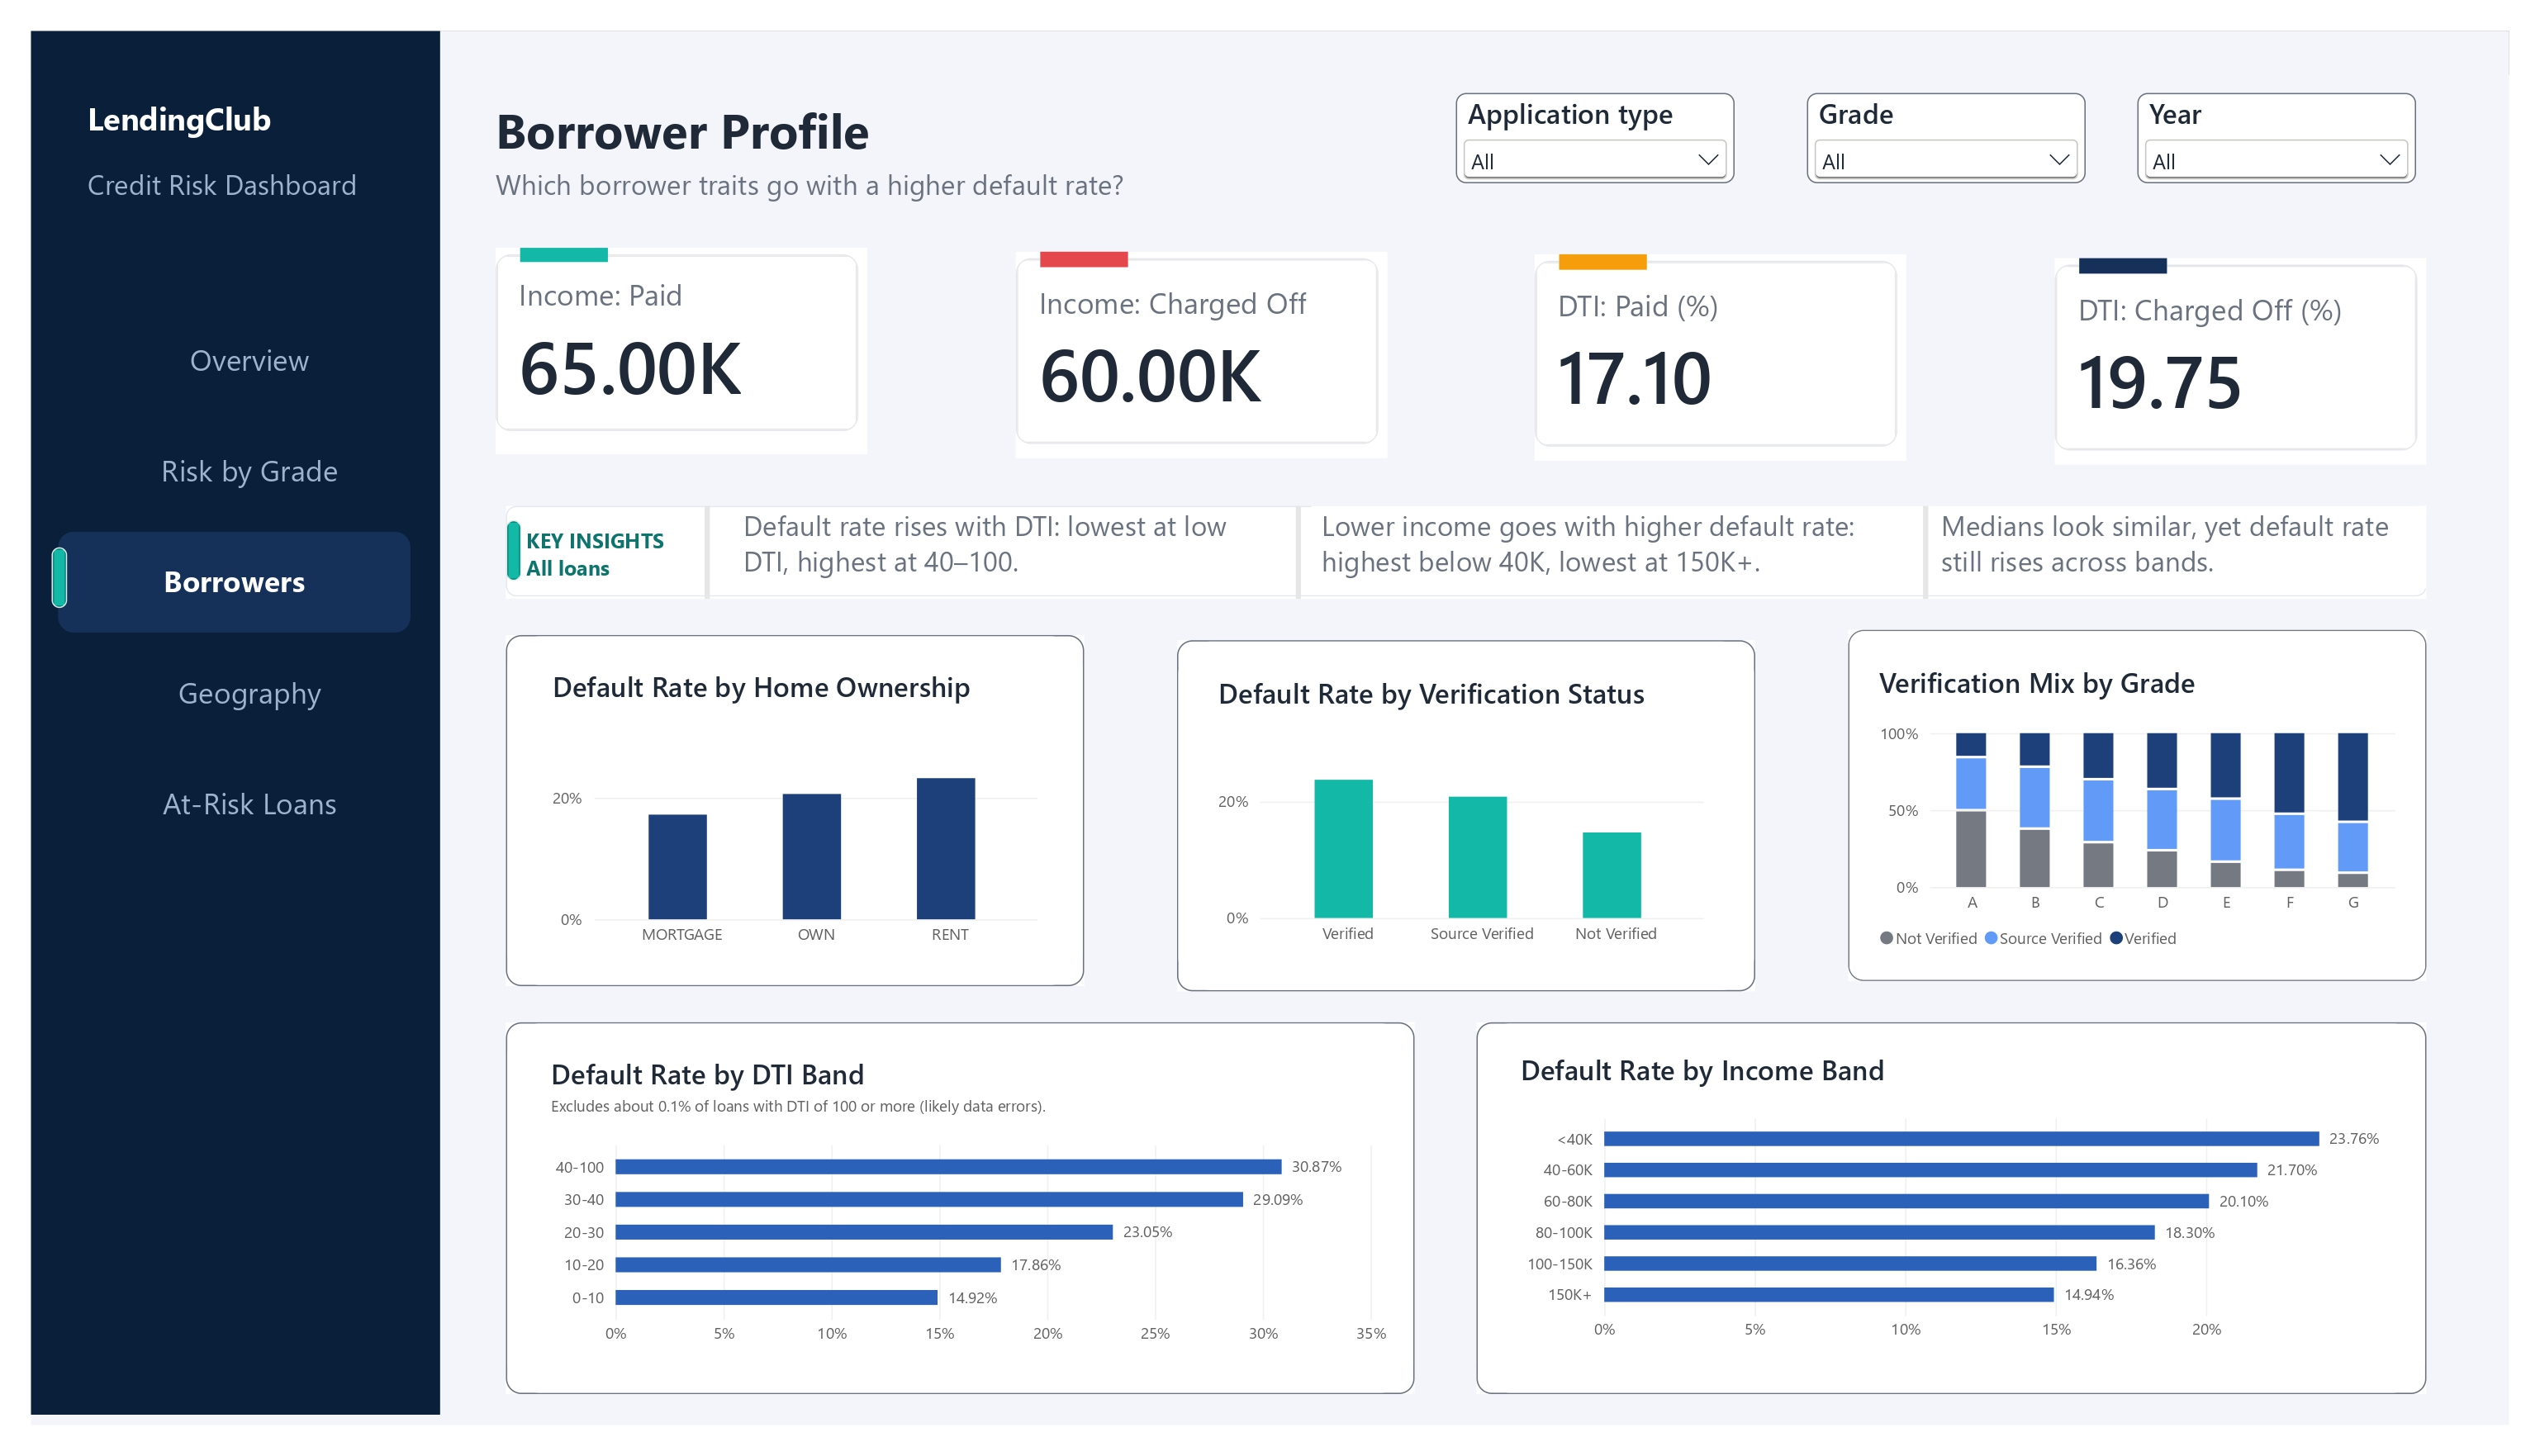

The dashboard page shown, as its layout file describes it:
{"tool":"powerbi","page":{"name":"Borrowers","canvas":[1920,1080],"ordinal":2},"visuals":[{"type":"shape","box":[0,-8,317,1080],"z":0},{"type":"cardVisual","fields":{"Data":["Median(loans_dashboard.annual_inc)"]},"box":[360,172.8,281,137.1],"z":0,"group":"g1"},{"type":"cardVisual","fields":{"Data":["Median(loans_dashboard.annual_inc)"]},"box":[762.7,175.7,281,144],"z":0,"group":"g6"},{"type":"cardVisual","fields":{"Data":["Median(loans_dashboard.dti)"]},"box":[1165.3,178.3,281,144],"z":0,"group":"g2"},{"type":"cardVisual","fields":{"Data":["Median(loans_dashboard.dti)"]},"box":[1568,181,281,144],"z":0,"group":"g3"},{"type":"shape","box":[1408,464,448,272],"z":0,"group":"g10"},{"type":"textbox","box":[44,51,245,57],"z":1000},{"type":"shape","box":[379,168,68,11.4],"z":1000,"group":"g1"},{"type":"shape","box":[781.7,170.7,68,12],"z":1000,"group":"g6"},{"type":"shape","box":[1184.3,173.3,68,12],"z":1000,"group":"g2"},{"type":"shape","box":[1587,176,68,12],"z":1000,"group":"g3"},{"type":"textbox","box":[44,104,245,44],"z":2000},{"type":"pageNavigator","box":[21,216,273,426],"z":3000},{"type":"shape","box":[16,400,12,47],"z":4000},{"type":"textbox","box":[360,51,552,72],"z":5000},{"type":"textbox","box":[360,104,528,48],"z":6000},{"type":"slicer","fields":{"Values":["loans_dashboard.issue_d.Variation.Date Hierarchy.Year"]},"box":[1632,48,216,70],"z":7000},{"type":"group","id":"g1","title":"Group 1","box":[360,168,288,160],"z":8000},{"type":"group","id":"g2","title":"Group 1","box":[1165.3,173.3,288,160],"z":9000},{"type":"group","id":"g3","title":"Group 1","box":[1568,176,288,160],"z":11000},{"type":"slicer","fields":{"Values":["loans_dashboard.grade"]},"box":[1376,48,216,70],"z":12000},{"type":"shape","box":[368,368,1488,70],"z":12000,"group":"g9"},{"type":"slicer","fields":{"Values":["loans_dashboard.application_type"]},"box":[1104,48,216,70],"z":13000},{"type":"shape","box":[368,379,12,47],"z":13000,"group":"g9"},{"type":"group","id":"g4","title":"Group 3","box":[888,472,448,272],"z":14000},{"type":"shape","box":[368,468,448,272],"z":15000,"group":"g12"},{"type":"shape","box":[888,472,448,272],"z":15000,"group":"g4"},{"type":"group","id":"g5","title":"Group 5","box":[368,768,704,288],"z":15000},{"type":"shape","box":[368,768,704,288],"z":15000,"group":"g13"},{"type":"shape","box":[1120,768,736,288],"z":15000,"group":"g8"},{"type":"group","id":"g6","title":"Group 1","box":[762.7,170.7,288,160],"z":16000},{"type":"group","id":"g7","title":"Group 2","box":[368,468,448,272],"z":17000},{"type":"clusteredColumnChart","title":"Default Rate by Home Ownership","fields":{"Category":["loans_dashboard.home_ownership"],"Y":["loans_dashboard.Charge-off Rate per 100 (closed loans)"]},"box":[388,479.3,408,249.3],"z":17000,"group":"g12"},{"type":"columnChart","title":"Default Rate by Verification Status","fields":{"Category":["loans_dashboard.verification_status"],"Y":["loans_dashboard.Charge-off Rate per 100 (closed loans)"]},"box":[904.1,488,408,240],"z":17007,"group":"g4"},{"type":"textbox","box":[384,384,128,48],"z":18000,"group":"g9"},{"type":"group","id":"g8","title":"Group 8","box":[1120,768,736,288],"z":18000},{"type":"group","id":"g9","title":"Group 9","box":[368,368,1488,72],"z":19000},{"type":"textbox","box":[1472,368,384,64],"z":19000,"group":"g9"},{"type":"hundredPercentStackedColumnChart","title":"Verification Mix by Grade","fields":{"Category":["loans_dashboard.grade"],"Series":["loans_dashboard.verification_status"],"Y":["CountNonNull(loans_dashboard.verification_status)"]},"box":[1416,476,432,256],"z":19000,"group":"g10"},{"type":"textbox","box":[992,368,480,64],"z":20000,"group":"g9"},{"type":"group","id":"g10","title":"Group 4","box":[1408,464,448,272],"z":20000},{"type":"clusteredBarChart","title":"Default Rate by Income Band","fields":{"Category":["loans_dashboard.Income Band"],"Y":["loans_dashboard.Charge-off Rate per 100 (closed loans)"]},"box":[1138,776.5,709.7,259.2],"z":20002,"group":"g11"},{"type":"clusteredBarChart","title":"Default Rate by DTI Band","fields":{"Category":["loans_dashboard.DTI Band"],"Y":["loans_dashboard.Charge-off Rate per 100 (closed loans)"]},"box":[386.9,778.8,678.9,259.2],"z":20002,"group":"g13"},{"type":"textbox","box":[544,368,416,64],"z":21000,"group":"g9"},{"type":"shape","box":[970,368,24,72],"z":22000,"group":"g9"},{"type":"shape","box":[512,368,24,72],"z":23000,"group":"g9"},{"type":"shape","box":[1456,368,24,72],"z":24000,"group":"g9"},{"type":"group","id":"g11","title":"Group 5","box":[1138,776.5,700.1,271.1],"z":26000,"group":"g8"},{"type":"group","id":"g12","title":"Group 6","box":[368,468,448,272],"z":28001,"group":"g7"},{"type":"group","id":"g13","title":"Group 7","box":[368,768,704,288],"z":28001,"group":"g5"}]}

Visuals, with their boxes on the page's 1920x1080 design canvas (x1, y1, x2, y2). These are canvas units, not pixel positions in the 2540x1456 screenshot, which may show the page scaled, cropped or inside an application window:
shape: <bbox>0, -8, 317, 1072</bbox>
cardVisual - Median(loans_dashboard.annual_inc): <bbox>360, 173, 641, 310</bbox>
cardVisual - Median(loans_dashboard.annual_inc): <bbox>763, 176, 1044, 320</bbox>
cardVisual - Median(loans_dashboard.dti): <bbox>1165, 178, 1446, 322</bbox>
cardVisual - Median(loans_dashboard.dti): <bbox>1568, 181, 1849, 325</bbox>
shape: <bbox>1408, 464, 1856, 736</bbox>
textbox: <bbox>44, 51, 289, 108</bbox>
shape: <bbox>379, 168, 447, 179</bbox>
shape: <bbox>782, 171, 850, 183</bbox>
shape: <bbox>1184, 173, 1252, 185</bbox>
shape: <bbox>1587, 176, 1655, 188</bbox>
textbox: <bbox>44, 104, 289, 148</bbox>
pageNavigator: <bbox>21, 216, 294, 642</bbox>
shape: <bbox>16, 400, 28, 447</bbox>
textbox: <bbox>360, 51, 912, 123</bbox>
textbox: <bbox>360, 104, 888, 152</bbox>
slicer - loans_dashboard.issue_d.Variation.Date Hierarchy.Year: <bbox>1632, 48, 1848, 118</bbox>
"Group 1" group: <bbox>360, 168, 648, 328</bbox>
"Group 1" group: <bbox>1165, 173, 1453, 333</bbox>
"Group 1" group: <bbox>1568, 176, 1856, 336</bbox>
slicer - loans_dashboard.grade: <bbox>1376, 48, 1592, 118</bbox>
shape: <bbox>368, 368, 1856, 438</bbox>
slicer - loans_dashboard.application_type: <bbox>1104, 48, 1320, 118</bbox>
shape: <bbox>368, 379, 380, 426</bbox>
"Group 3" group: <bbox>888, 472, 1336, 744</bbox>
shape: <bbox>368, 468, 816, 740</bbox>
shape: <bbox>888, 472, 1336, 744</bbox>
"Group 5" group: <bbox>368, 768, 1072, 1056</bbox>
shape: <bbox>368, 768, 1072, 1056</bbox>
shape: <bbox>1120, 768, 1856, 1056</bbox>
"Group 1" group: <bbox>763, 171, 1051, 331</bbox>
"Group 2" group: <bbox>368, 468, 816, 740</bbox>
"Default Rate by Home Ownership" clusteredColumnChart: <bbox>388, 479, 796, 729</bbox>
"Default Rate by Verification Status" columnChart: <bbox>904, 488, 1312, 728</bbox>
textbox: <bbox>384, 384, 512, 432</bbox>
"Group 8" group: <bbox>1120, 768, 1856, 1056</bbox>
"Group 9" group: <bbox>368, 368, 1856, 440</bbox>
textbox: <bbox>1472, 368, 1856, 432</bbox>
"Verification Mix by Grade" hundredPercentStackedColumnChart: <bbox>1416, 476, 1848, 732</bbox>
textbox: <bbox>992, 368, 1472, 432</bbox>
"Group 4" group: <bbox>1408, 464, 1856, 736</bbox>
"Default Rate by Income Band" clusteredBarChart: <bbox>1138, 776, 1848, 1036</bbox>
"Default Rate by DTI Band" clusteredBarChart: <bbox>387, 779, 1066, 1038</bbox>
textbox: <bbox>544, 368, 960, 432</bbox>
shape: <bbox>970, 368, 994, 440</bbox>
shape: <bbox>512, 368, 536, 440</bbox>
shape: <bbox>1456, 368, 1480, 440</bbox>
"Group 5" group: <bbox>1138, 776, 1838, 1048</bbox>
"Group 6" group: <bbox>368, 468, 816, 740</bbox>
"Group 7" group: <bbox>368, 768, 1072, 1056</bbox>
